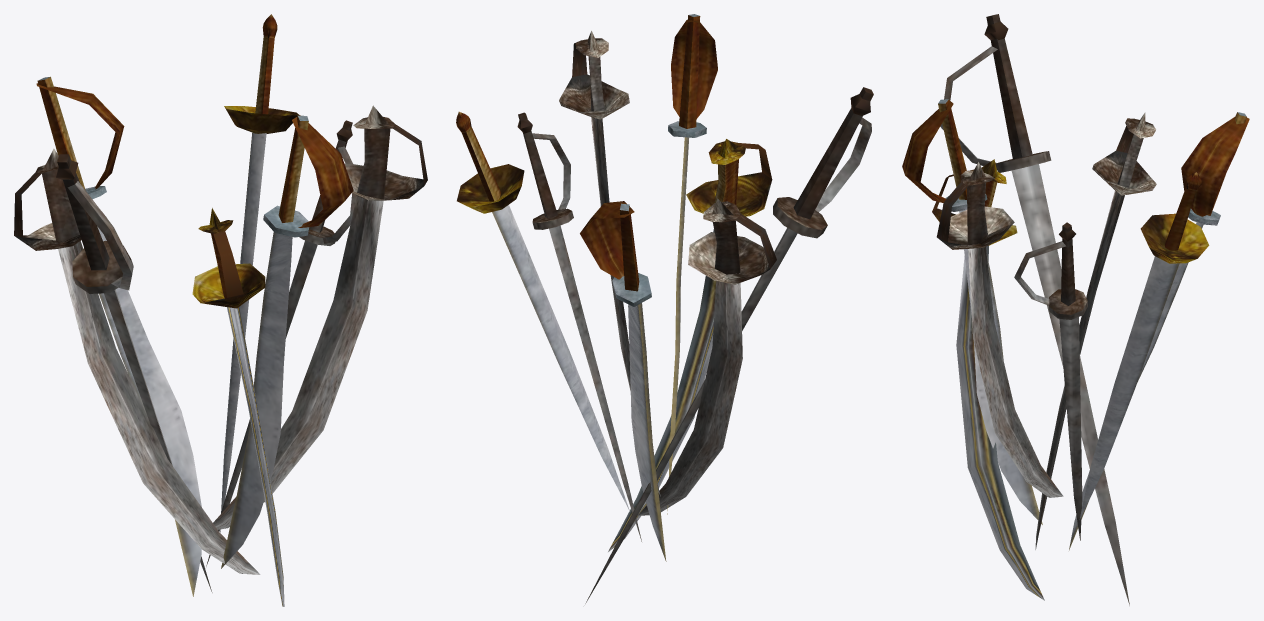
File: shop_bsmith_bucket_swords.fbx
3 renders of one model, left to right at view 1: azimuth 30°, elevation 25°; view 2: azimuth 150°, elevation 25°; view 3: azimuth 270°, elevation 25°, orthographic. The views are drawn at different scales.
Parts seen in each view (by area): view 1: cutlass_mesh, cutlass_mesh4, cutlass_mesh3, cutlass_mesh6, cutlass_mesh5, cutlass_mesh_shiny, cutlass_mesh1, cutlass_mesh2; view 2: cutlass_mesh4, cutlass_mesh6, cutlass_mesh1, cutlass_mesh_shiny, cutlass_mesh5, cutlass_mesh3, cutlass_mesh2, cutlass_mesh; view 3: cutlass_mesh, cutlass_mesh5, cutlass_mesh1, cutlass_mesh_shiny, cutlass_mesh3, cutlass_mesh2, cutlass_mesh4, cutlass_mesh6.
Boxes of the visible parts, x1,y1,x2,y2 form: cutlass_mesh: (213, 105, 427, 529); cutlass_mesh4: (14, 148, 260, 574); cutlass_mesh3: (221, 115, 353, 568); cutlass_mesh6: (36, 76, 201, 596); cutlass_mesh5: (56, 154, 212, 592); cutlass_mesh_shiny: (192, 208, 284, 606); cutlass_mesh1: (220, 14, 299, 532); cutlass_mesh2: (206, 120, 356, 566); cutlass_mesh4: (637, 198, 776, 515); cutlass_mesh6: (580, 201, 666, 561); cutlass_mesh1: (456, 111, 629, 510); cutlass_mesh_shiny: (608, 139, 772, 551); cutlass_mesh5: (585, 87, 873, 603); cutlass_mesh3: (667, 14, 717, 514); cutlass_mesh2: (517, 112, 641, 541); cutlass_mesh: (559, 31, 660, 496); cutlass_mesh: (936, 162, 1063, 497); cutlass_mesh5: (940, 14, 1129, 605); cutlass_mesh1: (1079, 172, 1209, 519); cutlass_mesh_shiny: (932, 159, 1044, 600); cutlass_mesh3: (902, 99, 1042, 524); cutlass_mesh2: (1014, 222, 1087, 540); cutlass_mesh4: (1035, 112, 1156, 549); cutlass_mesh6: (1069, 112, 1249, 550).
Size of the model in its own units: 260 by 400 by 252.
1 material, 1 textured.
